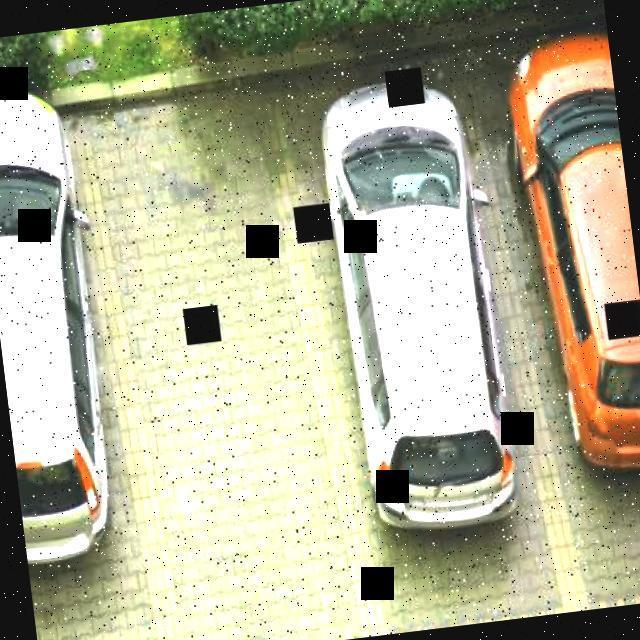car: (301, 70, 534, 594), (0, 64, 141, 592), (499, 23, 640, 495)
free: (87, 84, 347, 640)
